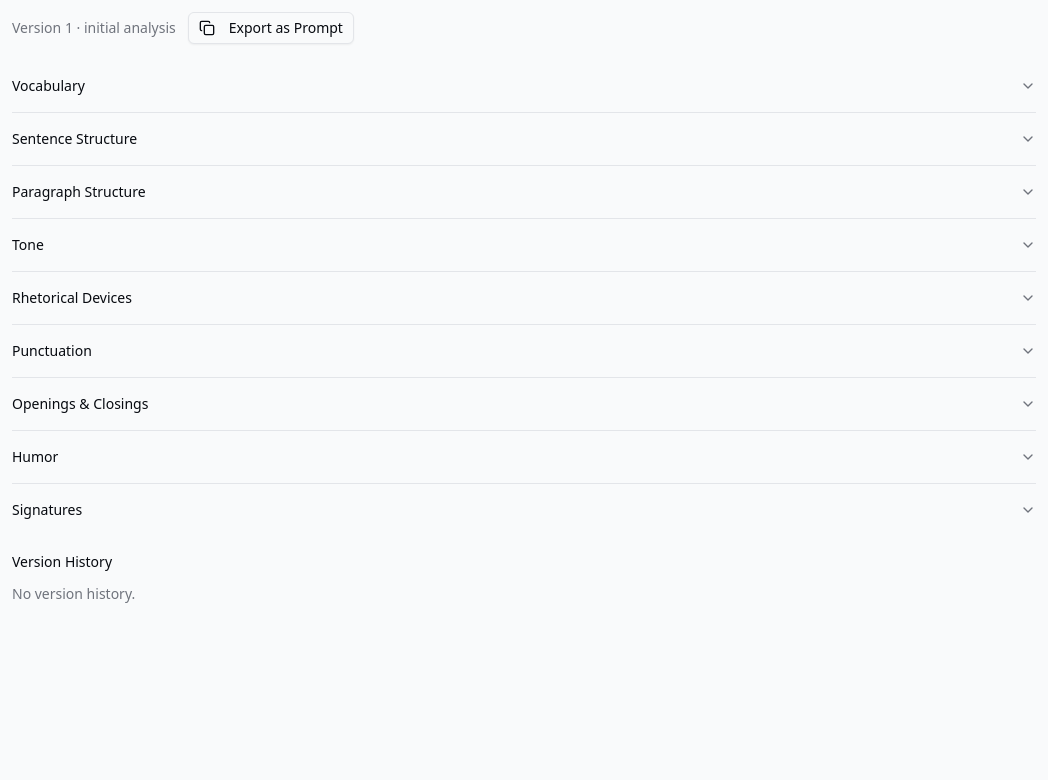
Test case: DnaDisplay › field click enables editing
Expand the Vocabulary section
Click the button "Vocabulary".
click(48, 86)  # box 12,60 -> 1036,112
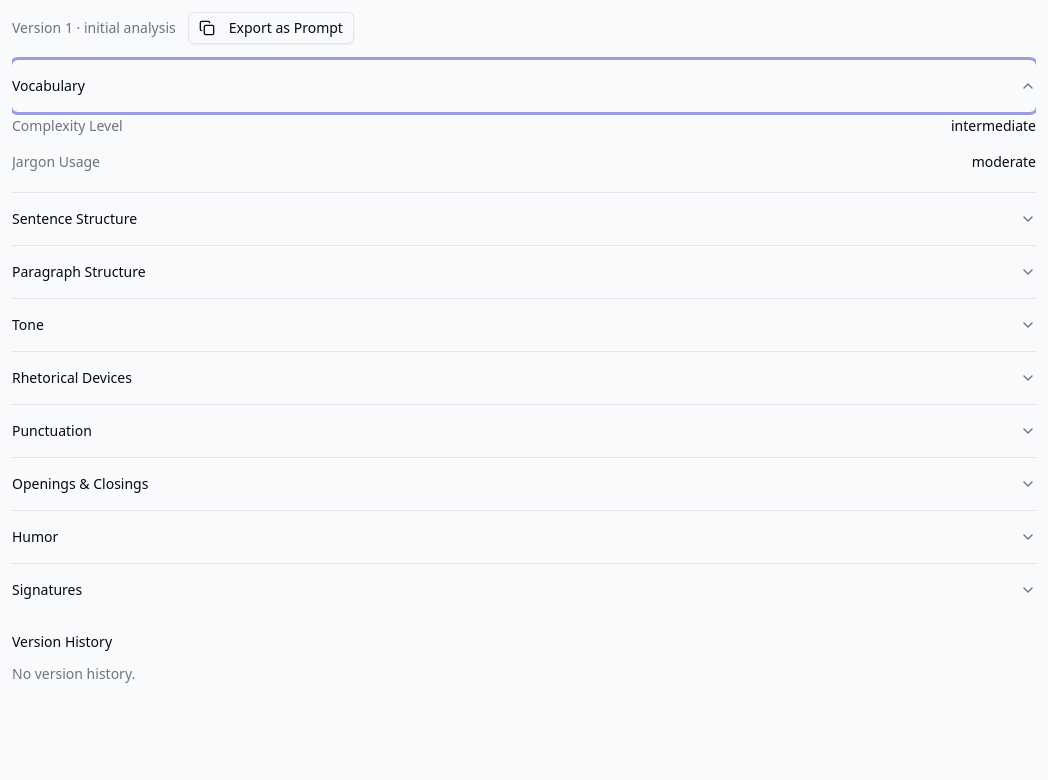
Expected: the button "intermediate" is shown
Click the button "intermediate".
click(994, 126)  # box 951,116 -> 1036,136
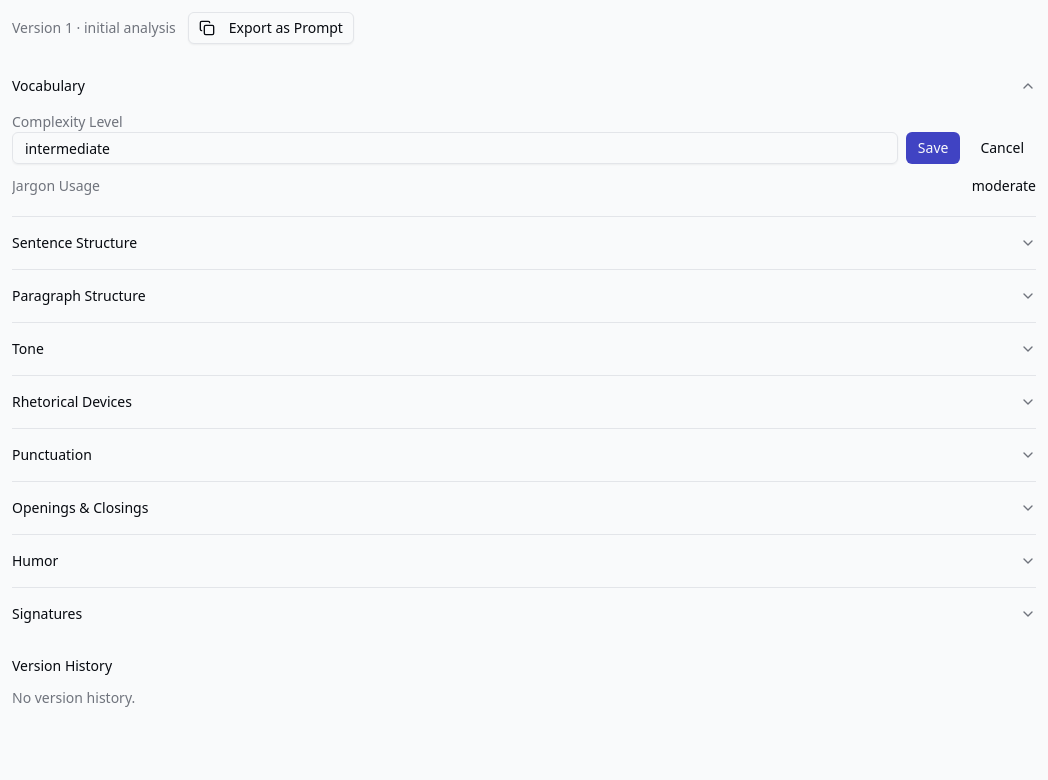
Expected: the field showing "intermediate" is shown, 12,132 -> 898,164
